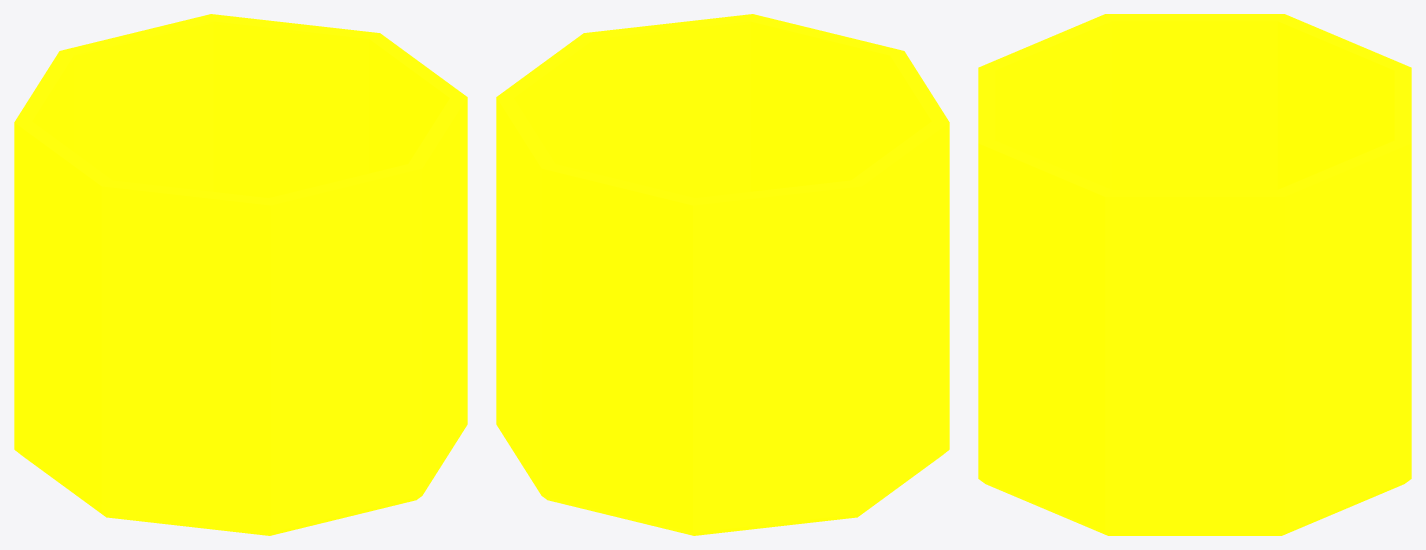
File: gift-christmas-cylinder-open-base.glb
3 views of the same model, side by side, from view 1: azimuth 30°, elevation 25°; view 2: azimuth 150°, elevation 25°; view 3: azimuth 270°, elevation 25° (orthographic). The views are drawn at different scales.
Visible parts, largest first — view 1: gift_christmas_cylinder_open_base; view 2: gift_christmas_cylinder_open_base; view 3: gift_christmas_cylinder_open_base.
Boxes of the visible parts, bbox=[...] form: gift_christmas_cylinder_open_base: bbox=[14, 14, 467, 535]; gift_christmas_cylinder_open_base: bbox=[496, 14, 949, 535]; gift_christmas_cylinder_open_base: bbox=[978, 14, 1411, 535].
Bounding box in the file's own units: 0.2469 × 0.2151 × 0.2469.
1 material, 1 textured.
